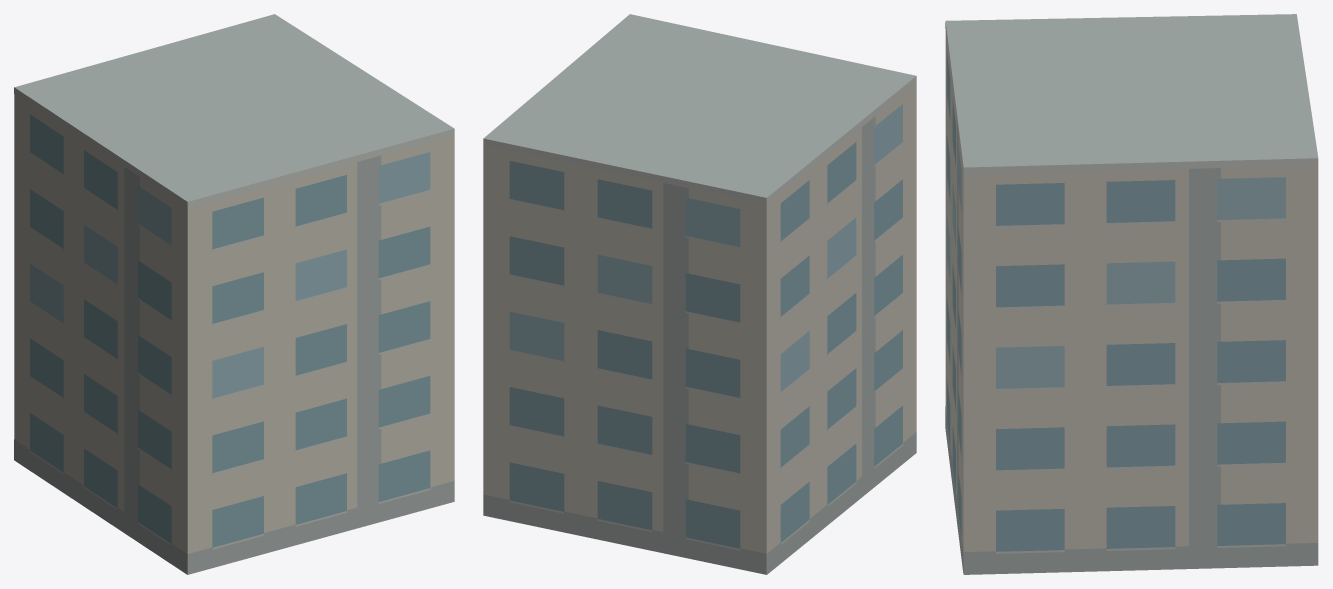
Rendered from survey-upis-33028927.glb.
3 renders of one model, left to right at view 1: azimuth 30°, elevation 25°; view 2: azimuth 150°, elevation 25°; view 3: azimuth 270°, elevation 25°, orthographic. The views are drawn at different scales.
Parts seen in each view (by area): view 1: survey-upis-33028927.tmp; view 2: survey-upis-33028927.tmp; view 3: survey-upis-33028927.tmp.
Boxes of the visible parts, x1,y1,x2,y2 form: survey-upis-33028927.tmp: (14,14,454,574); survey-upis-33028927.tmp: (483,14,916,574); survey-upis-33028927.tmp: (945,14,1318,574).
Size of the model in its own units: 11.08 by 13.7 by 11.38.
